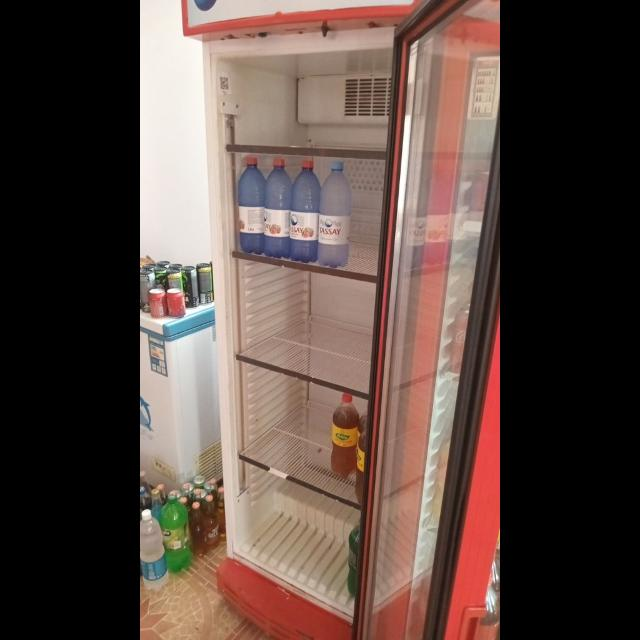Cooling-Display: (180, 1, 420, 640)
